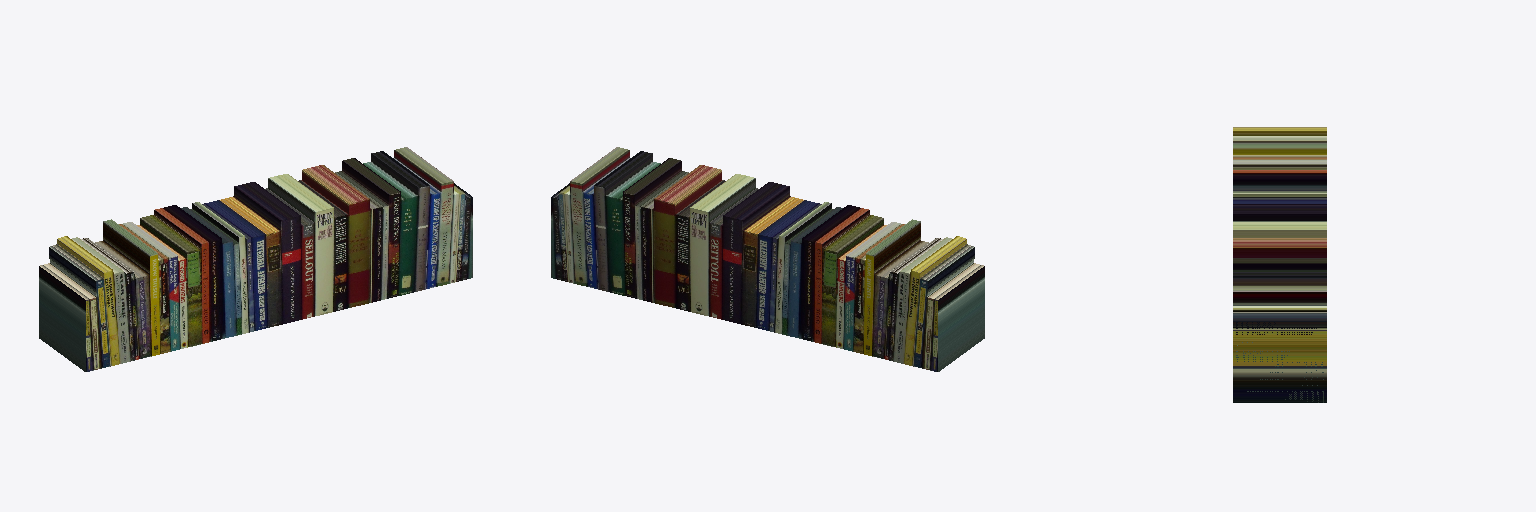
3 views of the same model, side by side, from view 1: azimuth 30°, elevation 25°; view 2: azimuth 150°, elevation 25°; view 3: azimuth 270°, elevation 25° (orthographic).
Parts seen in each view (by area): view 1: Mesh1 Model; view 2: Mesh1 Model; view 3: Mesh1 Model.
Boxes of the visible parts, x1=… form: Mesh1 Model: x1=39, y1=147, x2=472, y2=371; Mesh1 Model: x1=551, y1=147, x2=984, y2=371; Mesh1 Model: x1=1233, y1=127, x2=1326, y2=402.
Bounding box in the file's own units: 38.2 × 9.84 × 8.
Materials: 1 (1 with a texture image).